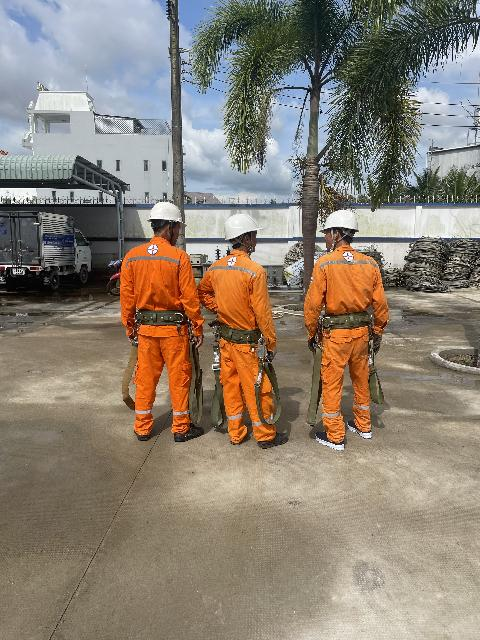gloves: (364, 329, 387, 357), (205, 307, 225, 327), (306, 333, 323, 354), (262, 347, 283, 362)
harness: (128, 304, 192, 332), (208, 319, 265, 350), (317, 313, 377, 329)
helmet: (214, 205, 263, 245), (146, 198, 190, 233), (316, 208, 361, 240)
shoes: (169, 419, 205, 447), (308, 431, 349, 453), (128, 415, 154, 446), (253, 431, 292, 449), (345, 417, 374, 440), (223, 425, 249, 448)
